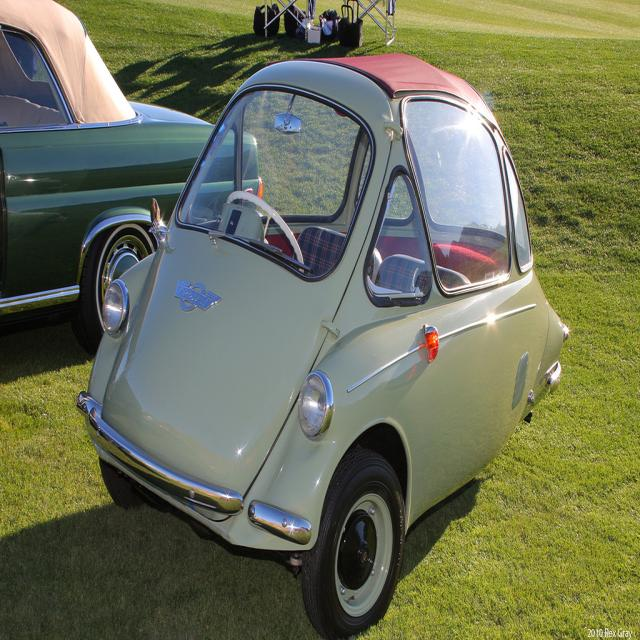car: (77, 58, 574, 634)
